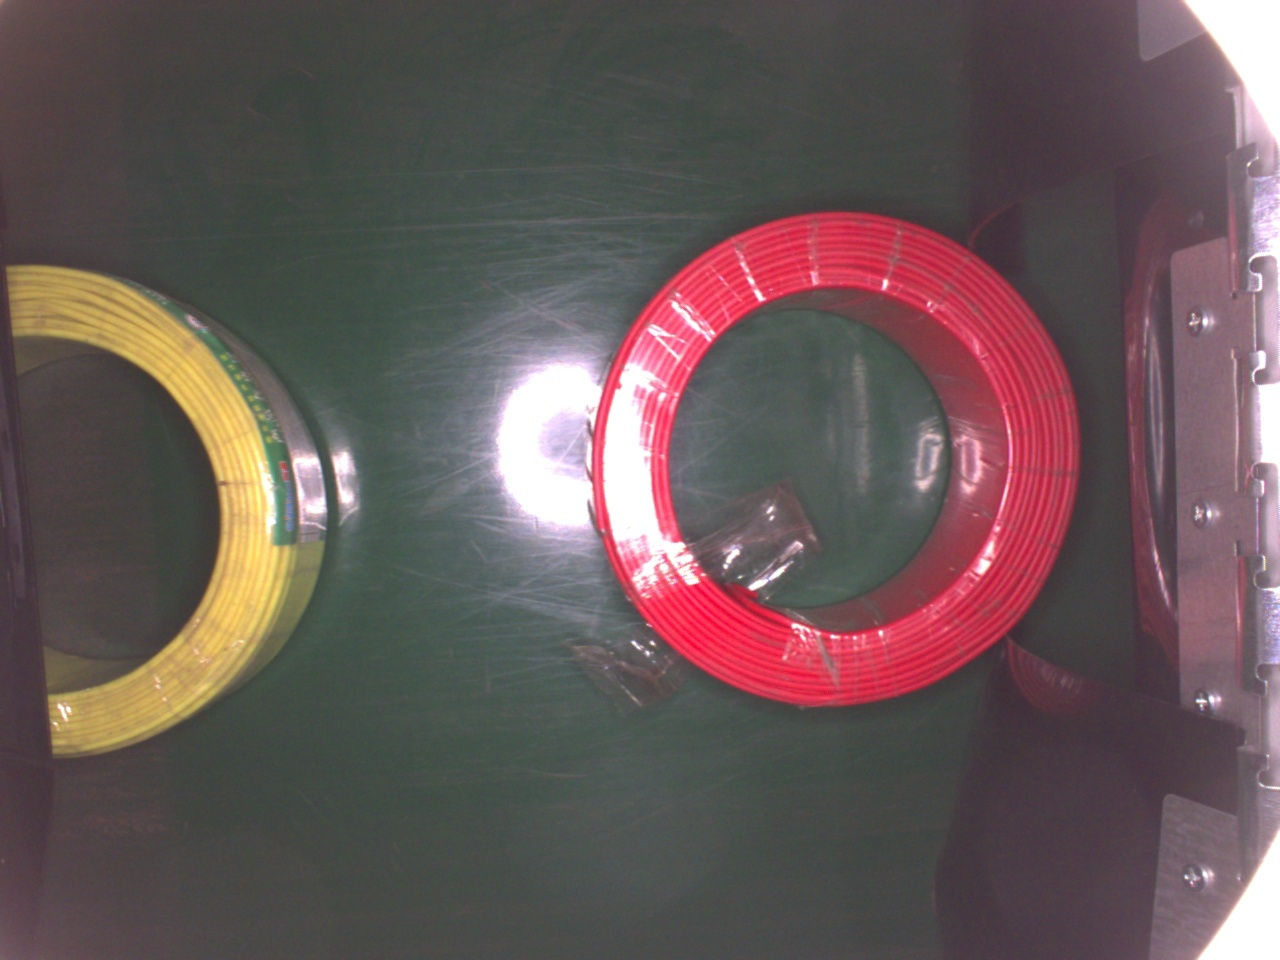red: (579, 208, 1091, 708)
yellow: (4, 261, 331, 760)
